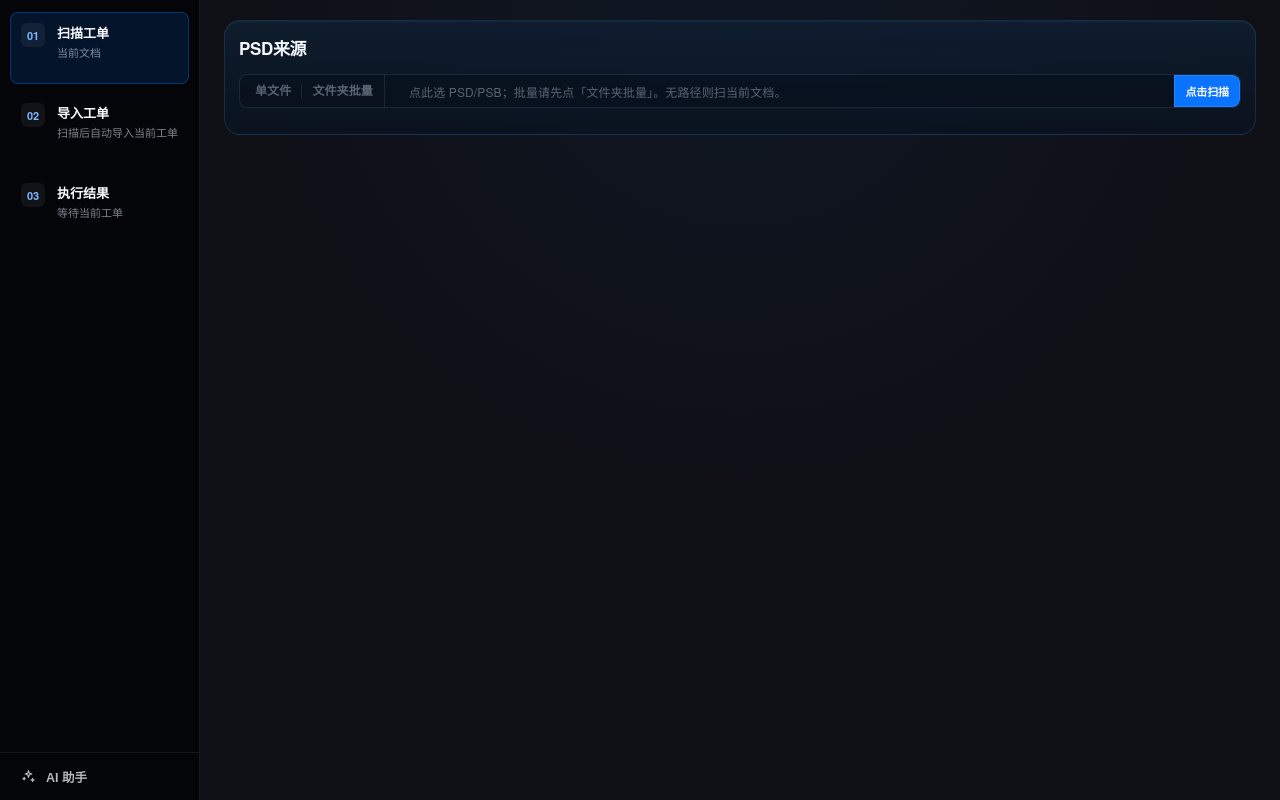
Test: MediaTools workflow apps › offers Photoshop scan cancel that requests job cancellation
The image size is (1280, 800).
Step 1. Click the button "点击扫描" → (1207, 91), box [1174, 75, 1240, 107]
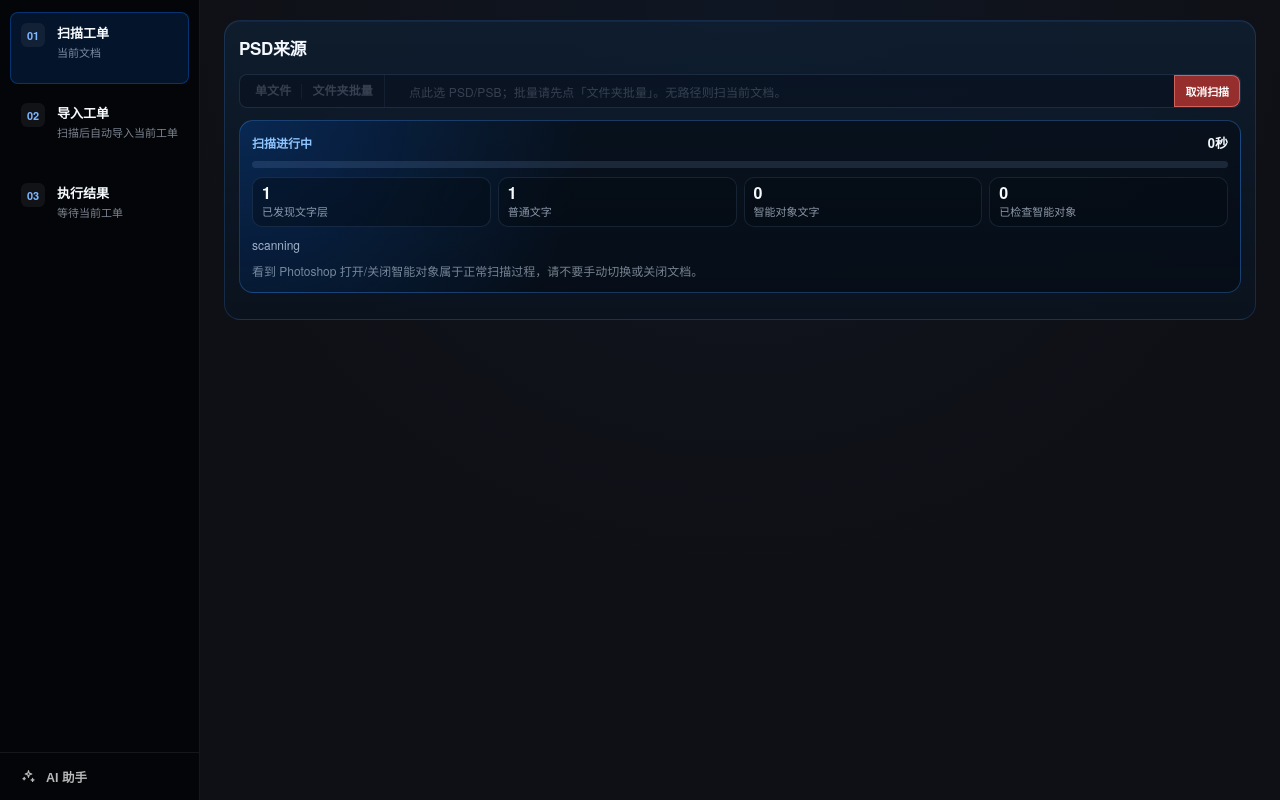
Step 2. Click the button "取消扫描" → (1207, 91), box [1174, 75, 1240, 107]
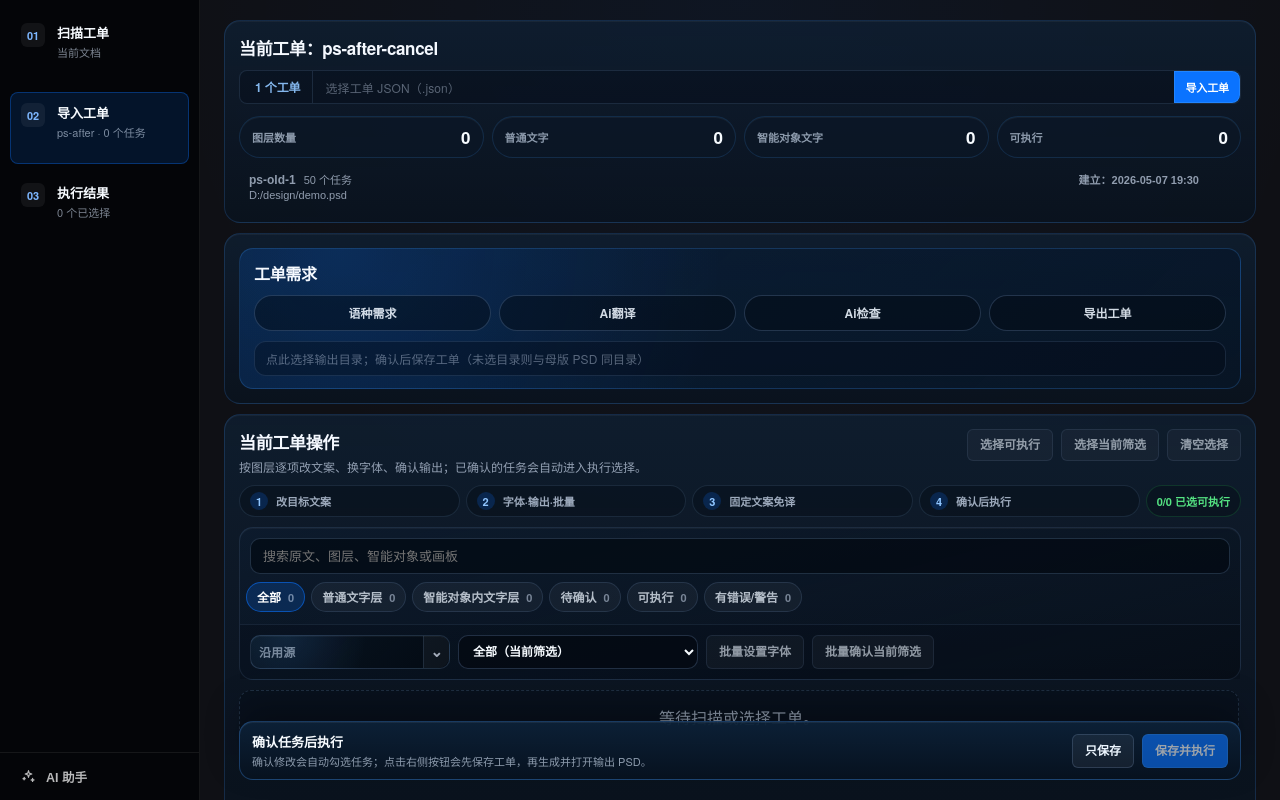
Now the message is gone
